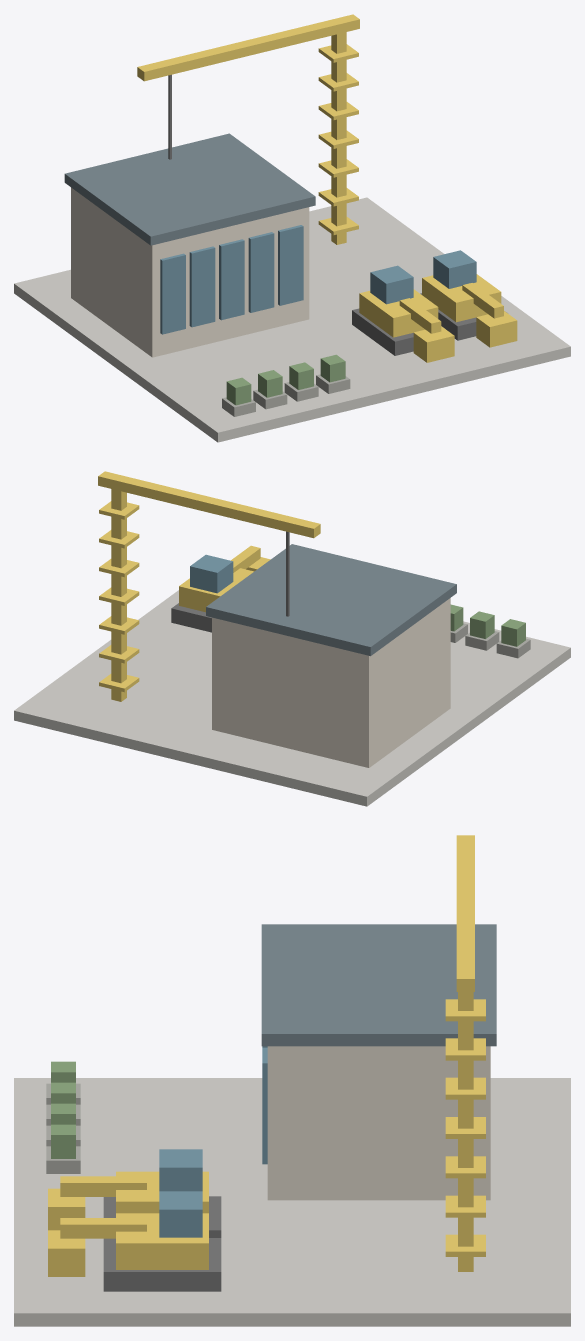
Rendered from construction-10.gltf.
3 views of the same model, one above another, from view 1: azimuth 30°, elevation 25°; view 2: azimuth 150°, elevation 25°; view 3: azimuth 270°, elevation 25° (orthographic). The views are drawn at different scales.
Bounding box in the file's own units: 9 × 5.62 × 9.
